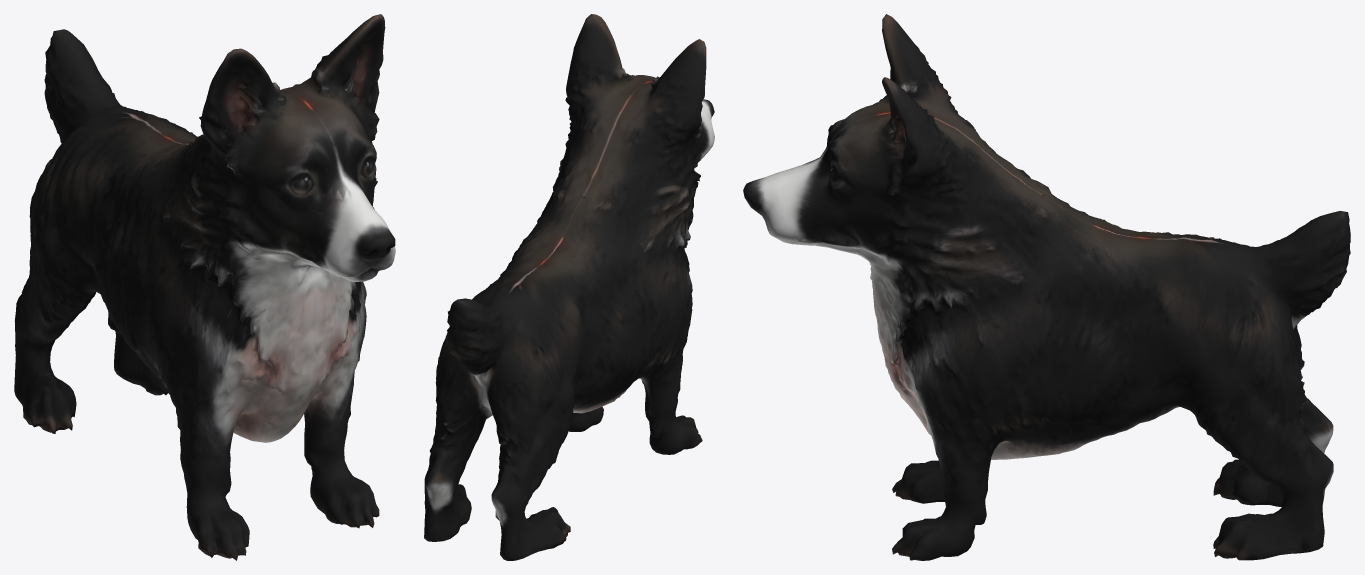
File: 019a6953-adfd-7481-9743-647f0608ad4e.glb
The picture shows the model from 3 angles, left to right: view 1: azimuth 30°, elevation 25°; view 2: azimuth 150°, elevation 25°; view 3: azimuth 270°, elevation 25°; orthographic projection. The views are drawn at different scales.
Bounding box in the file's own units: 0.6515 × 1.66 × 1.91.
Materials: 1 (1 with a texture image).
